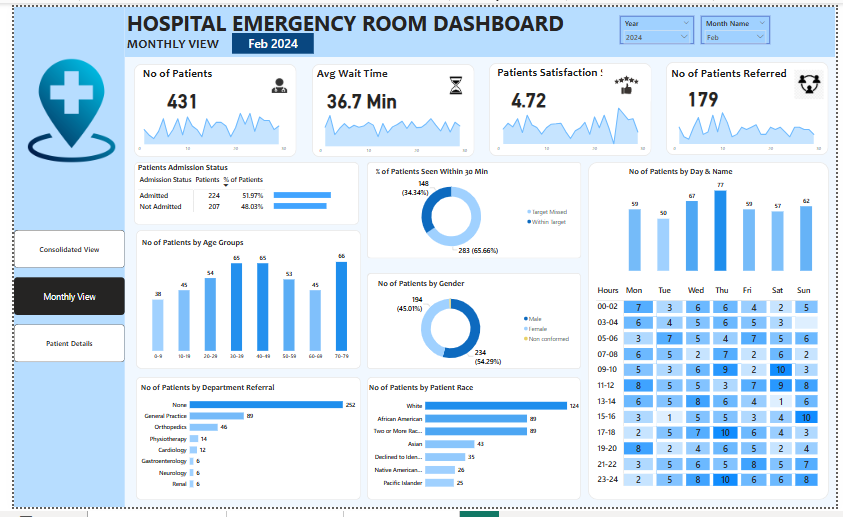

The dashboard page shown, as its layout file describes it:
{"tool":"powerbi","page":{"name":"Monthly View","canvas":[2300,1400],"ordinal":1},"visuals":[{"type":"shape","box":[336.8,160.5,455,260.5],"z":0},{"type":"shape","box":[0,0,310,1400.5],"z":1000},{"type":"shape","box":[310.8,0,1988,140],"z":2000},{"type":"textbox","box":[310.9,0,1334.1,141.9],"z":3000},{"type":"textbox","box":[310.9,72.4,319.9,66.4],"z":4000},{"type":"card","fields":{"Values":["Hospital ER_Data.No of Patients"]},"box":[371.1,223.7,200,68.4],"z":5000},{"type":"slicer","fields":{"Values":["Date Table.Month Name"]},"box":[1923.6,25.2,193.2,78.4],"z":6000},{"type":"slicer","fields":{"Values":["Date Table.Year"]},"box":[1696.8,25.2,207.2,78.4],"z":7000},{"type":"textbox","box":[355.3,160.5,276.3,63.2],"z":8000},{"type":"areaChart","fields":{"Category":["Date Table.Date.Variation.Date Hierarchy.Day"],"Y":["Hospital ER_Data.No of Patients"]},"box":[336.8,268.4,434.2,144.7],"z":9000},{"type":"card","fields":{"Values":["Min(Date Table.Month & Year)"]},"box":[610.5,73.7,228.9,57.9],"z":10000},{"type":"shape","box":[833.3,160,455,260.5],"z":11000},{"type":"card","fields":{"Values":["Hospital ER_Data.Avg Wait Time"]},"box":[857.9,223.7,234.2,68.4],"z":12000},{"type":"textbox","box":[842.1,160.5,286.8,57.9],"z":13000},{"type":"areaChart","fields":{"Y":["Avg(Hospital ER_Data.Patient Waittime)"],"Category":["Date Table.Date.Variation.Date Hierarchy.Day"]},"box":[842.1,273.7,434.2,144.7],"z":14000},{"type":"shape","box":[1826.3,155.3,455,260.5],"z":15000},{"type":"card","fields":{"Values":["Hospital ER_Data.No of Patients Reffered"]},"box":[1828.9,218.4,200,68.4],"z":16000},{"type":"textbox","box":[1828.9,160.5,386.8,60.5],"z":17000},{"type":"areaChart","fields":{"Category":["Date Table.Date.Variation.Date Hierarchy.Day"],"Y":["Hospital ER_Data.No of Patients Reffered"]},"box":[1834.2,268.4,434.2,144.7],"z":18000},{"type":"shape","box":[1329.8,156.8,455,260.5],"z":19000},{"type":"card","fields":{"Values":["Hospital ER_Data.Satisfaction score"]},"box":[1341.1,220,200,68.4],"z":20000},{"type":"textbox","box":[1342.1,157.9,442.1,63.2],"z":21000},{"type":"areaChart","fields":{"Category":["Date Table.Date.Variation.Date Hierarchy.Day"],"Y":["Hospital ER_Data.Satisfaction score"]},"box":[1342.1,268.4,434.2,144.7],"z":22000},{"type":"shape","box":[336,434,630,176.4],"z":23000},{"type":"pivotTable","title":"Patients Admission Status","fields":{"Rows":["Hospital ER_Data.Admission Status"],"Values":["Hospital ER_Data.No of Patients","Divide(Hospital ER_Data.No of Patients, ScopedEval(Hospital ER_Data.No of Patients, []))"]},"box":[341.6,434,630,176.4],"z":24000},{"type":"barChart","fields":{"Y":["Hospital ER_Data.No of Patients"],"Category":["Hospital ER_Data.Admission Status"]},"box":[722.4,490,224,98],"z":25000},{"type":"shape","box":[341.8,624.9,630,389.2],"z":26000},{"type":"clusteredColumnChart","fields":{"Y":["Hospital ER_Data.No of Patients"],"Category":["Hospital ER_Data.Patient Age (groups)"]},"box":[352.6,645,616,352.8],"z":27000},{"type":"shape","box":[341.6,1036,630,344.4],"z":28000},{"type":"clusteredBarChart","fields":{"Category":["Hospital ER_Data.Department Referral"],"Y":["Hospital ER_Data.No of Patients"]},"box":[351.4,1051.4,613.5,313.5],"z":29000},{"type":"shape","box":[988.4,434,600,270],"z":30000},{"type":"donutChart","title":"% of Patients Seen Within 30 Min","fields":{"Category":["Hospital ER_Data.Waittime Status"],"Y":["Hospital ER_Data.No of Patients"]},"box":[1008,445.2,554.4,254.8],"z":31000},{"type":"shape","box":[988.4,744.8,599.2,268.8],"z":32000},{"type":"donutChart","title":"No of Patients by Gender","fields":{"Y":["Hospital ER_Data.No of Patients"],"Category":["Hospital ER_Data.Patient Gender"]},"box":[1013.6,758.8,554.4,254.8],"z":33000},{"type":"shape","box":[988.4,1036,599.2,344.4],"z":34000},{"type":"clusteredBarChart","fields":{"Y":["Hospital ER_Data.No of Patients"],"Category":["Hospital ER_Data.Patient Race"]},"box":[988.4,1050,599.2,313.6],"z":35000},{"type":"shape","box":[1607.2,434,674.8,946.4],"z":36000},{"type":"pivotTable","fields":{"Rows":["Hospital ER_Data.Waittime Interval"],"Columns":["Date Table.Day Name"],"Values":["Hospital ER_Data.No of Patients"]},"box":[1624,772.8,644,590.8],"z":37000},{"type":"image","box":[716.8,187.6,53.2,64.4],"z":38000},{"type":"image","box":[1198.4,187.6,78.4,64.4],"z":39000},{"type":"image","box":[1624,165.2,182,103.6],"z":40000},{"type":"image","box":[2170,170.8,112,92.4],"z":41000},{"type":"image","box":[11.2,140,299.6,299.6],"z":42000},{"type":"clusteredColumnChart","fields":{"Y":["Hospital ER_Data.No of Patients"],"Category":["Date Table.Day Name"]},"box":[1716.4,445.2,526.4,299.6],"z":43000},{"type":"pageNavigator","box":[0,624.4,310.8,372.4],"z":43001}]}

Visuals, with their boxes in screenshot pixels (x1, y1, x2, y2), scaled from the page's 2300x1400 canvas onto the 843x517 screenshot:
shape: <box>123,59,290,155</box>
shape: <box>0,0,114,516</box>
shape: <box>114,0,842,52</box>
textbox: <box>114,0,603,52</box>
textbox: <box>114,27,231,51</box>
card - Hospital ER_Data.No of Patients: <box>136,83,209,108</box>
slicer - Date Table.Month Name: <box>705,9,776,38</box>
slicer - Date Table.Year: <box>622,9,698,38</box>
textbox: <box>130,59,231,83</box>
areaChart - Date Table.Date.Variation.Date Hierarchy.Day x Hospital ER_Data.No of Patients: <box>123,99,283,153</box>
card - Min(Date Table.Month & Year): <box>224,27,308,49</box>
shape: <box>305,59,472,155</box>
card - Hospital ER_Data.Avg Wait Time: <box>314,83,400,108</box>
textbox: <box>309,59,414,81</box>
areaChart - Avg(Hospital ER_Data.Patient Waittime) x Date Table.Date.Variation.Date Hierarchy.Day: <box>309,101,468,155</box>
shape: <box>669,57,836,154</box>
card - Hospital ER_Data.No of Patients Reffered: <box>670,81,744,106</box>
textbox: <box>670,59,812,82</box>
areaChart - Date Table.Date.Variation.Date Hierarchy.Day x Hospital ER_Data.No of Patients Reffered: <box>672,99,831,153</box>
shape: <box>487,58,654,154</box>
card - Hospital ER_Data.Satisfaction score: <box>492,81,565,107</box>
textbox: <box>492,58,654,82</box>
areaChart - Date Table.Date.Variation.Date Hierarchy.Day x Hospital ER_Data.Satisfaction score: <box>492,99,651,153</box>
shape: <box>123,160,354,225</box>
"Patients Admission Status" pivotTable: <box>125,160,356,225</box>
barChart - Hospital ER_Data.No of Patients x Hospital ER_Data.Admission Status: <box>265,181,347,217</box>
shape: <box>125,231,356,374</box>
clusteredColumnChart - Hospital ER_Data.No of Patients x Hospital ER_Data.Patient Age (groups): <box>129,238,355,368</box>
shape: <box>125,383,356,510</box>
clusteredBarChart - Hospital ER_Data.Department Referral x Hospital ER_Data.No of Patients: <box>129,388,354,504</box>
shape: <box>362,160,582,260</box>
"% of Patients Seen Within 30 Min" donutChart: <box>369,164,573,258</box>
shape: <box>362,275,582,374</box>
"No of Patients by Gender" donutChart: <box>372,280,575,374</box>
shape: <box>362,383,582,510</box>
clusteredBarChart - Hospital ER_Data.No of Patients x Hospital ER_Data.Patient Race: <box>362,388,582,504</box>
shape: <box>589,160,836,510</box>
pivotTable - Hospital ER_Data.Waittime Interval x Date Table.Day Name: <box>595,285,831,504</box>
image: <box>263,69,282,93</box>
image: <box>439,69,468,93</box>
image: <box>595,61,662,99</box>
image: <box>795,63,836,97</box>
image: <box>4,52,114,162</box>
clusteredColumnChart - Hospital ER_Data.No of Patients x Date Table.Day Name: <box>629,164,822,275</box>
pageNavigator: <box>0,231,114,368</box>
